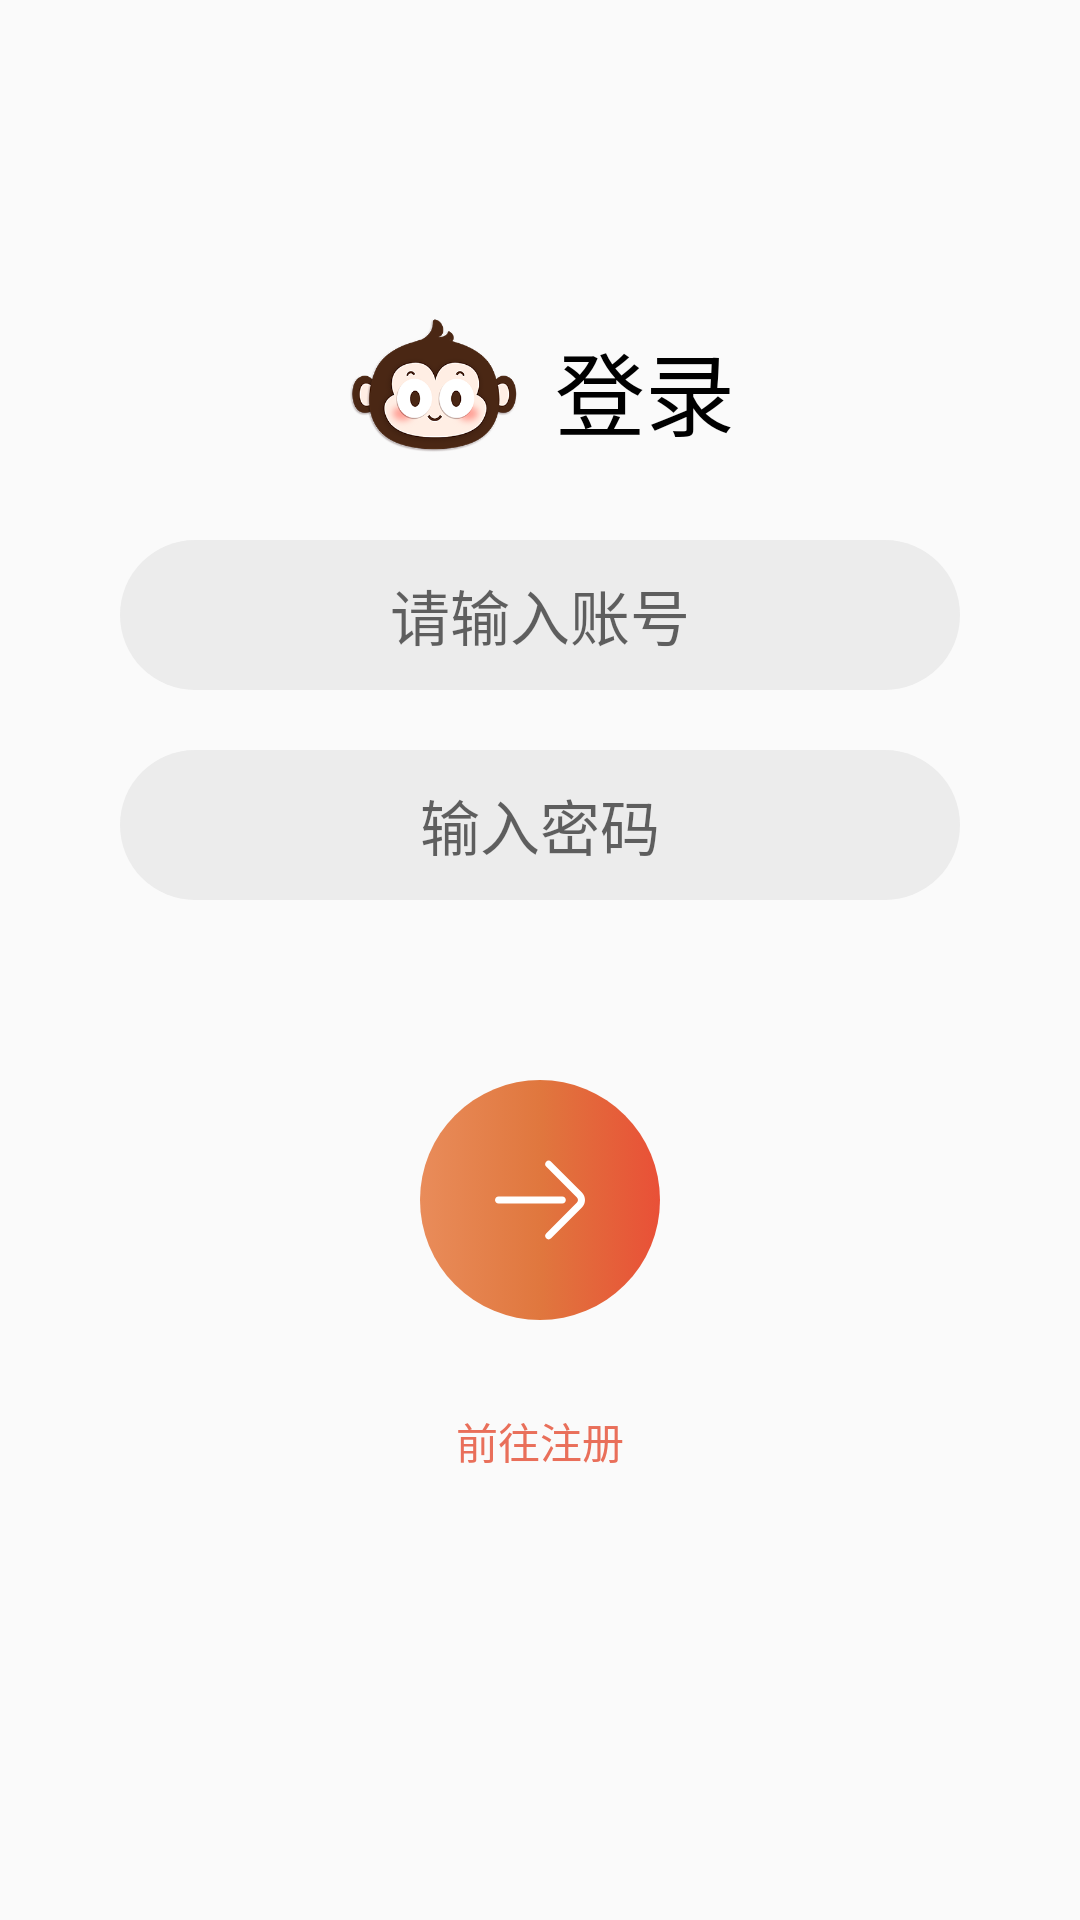

Where to tap for icons on this 1080×1920 app screen, as [x,y]:
login right: [540,1200]
